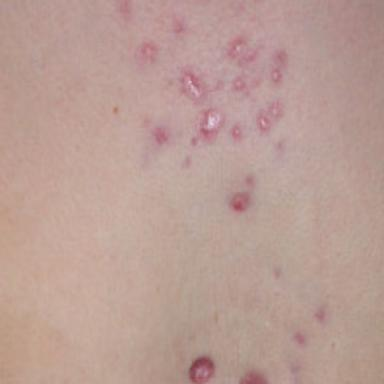acne: (198, 108, 223, 139), (181, 70, 205, 101), (139, 42, 157, 63), (227, 37, 244, 57), (231, 193, 249, 211), (153, 127, 167, 144), (269, 100, 283, 117), (257, 115, 270, 132), (231, 124, 242, 141), (233, 76, 245, 91), (271, 69, 282, 83), (174, 20, 185, 34), (191, 137, 197, 145)
